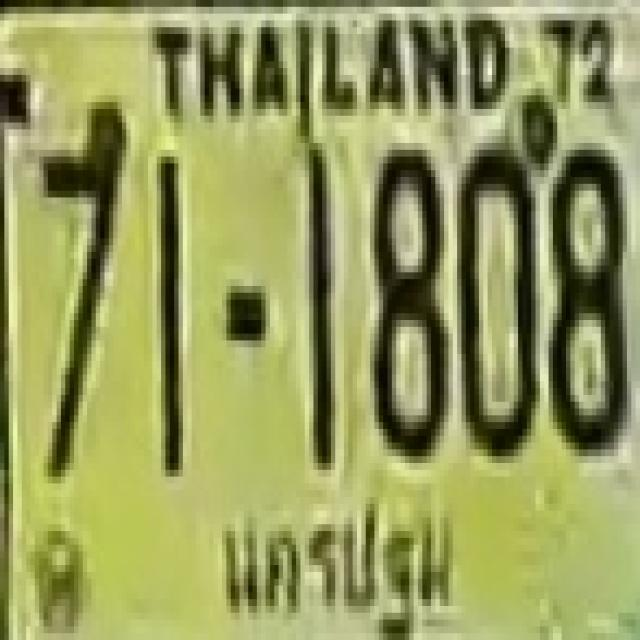0: (457, 140, 536, 452)
1: (156, 150, 178, 470)
7: (39, 102, 122, 470)
8: (544, 140, 623, 446), (370, 146, 444, 453)
NPT: (217, 495, 461, 640)
